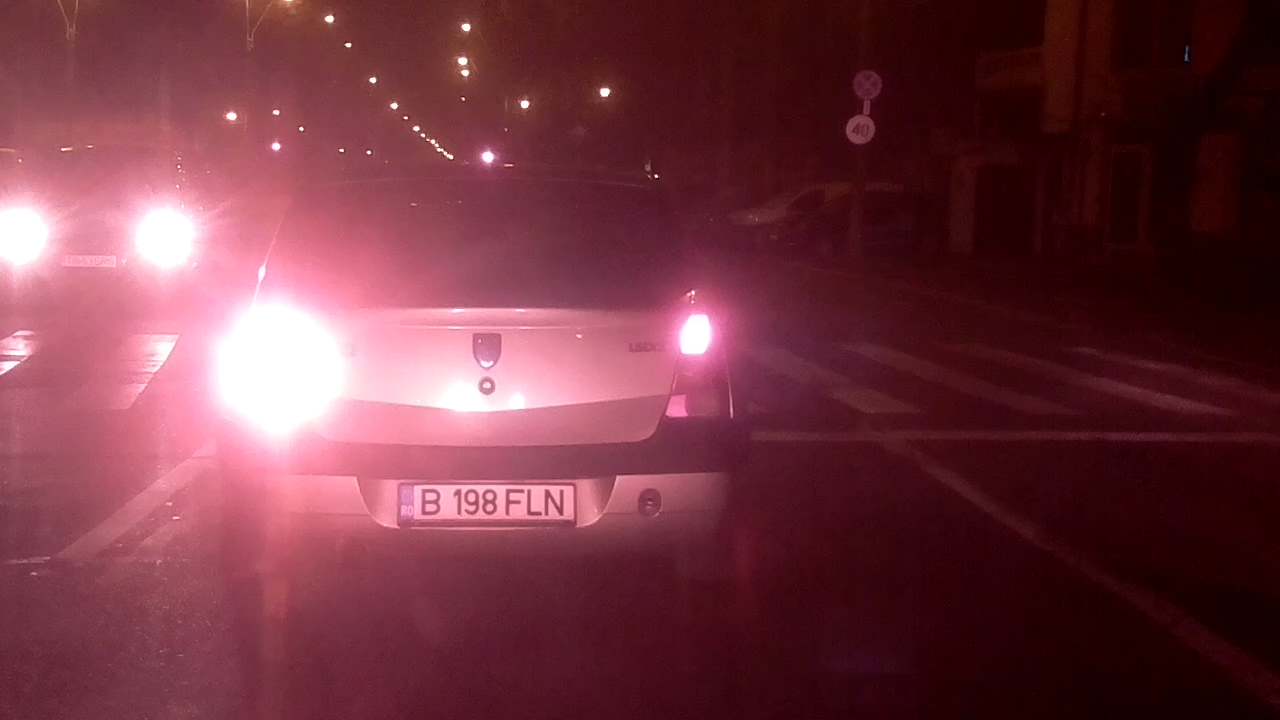license-plate: (392, 478, 581, 528)
